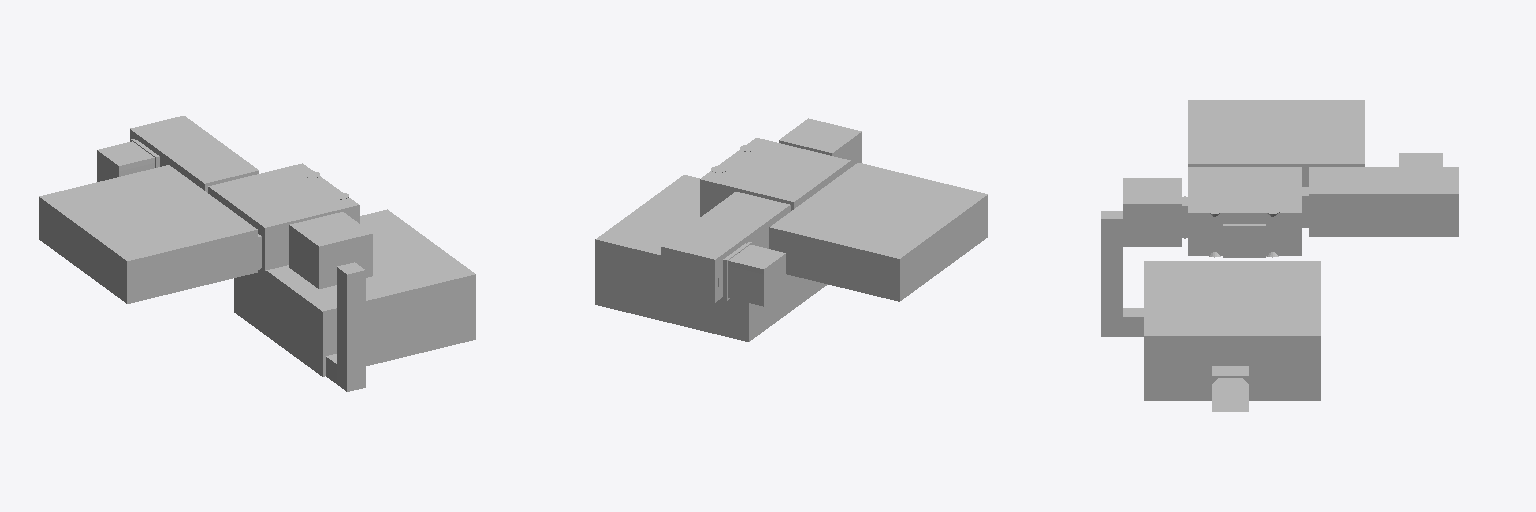
Rendered from Final Environment.obj.
3 renders of one model, left to right at view 1: azimuth 30°, elevation 25°; view 2: azimuth 150°, elevation 25°; view 3: azimuth 270°, elevation 25°, orthographic.
Visible parts, largest first — view 1: polySurface5; view 2: polySurface5; view 3: polySurface5.
Boxes of the visible parts, <box> form: polySurface5: <box>39,116,475,391</box>; polySurface5: <box>595,118,987,341</box>; polySurface5: <box>1101,100,1458,411</box>.
Size of the model in its own units: 3031 by 1181 by 2695.